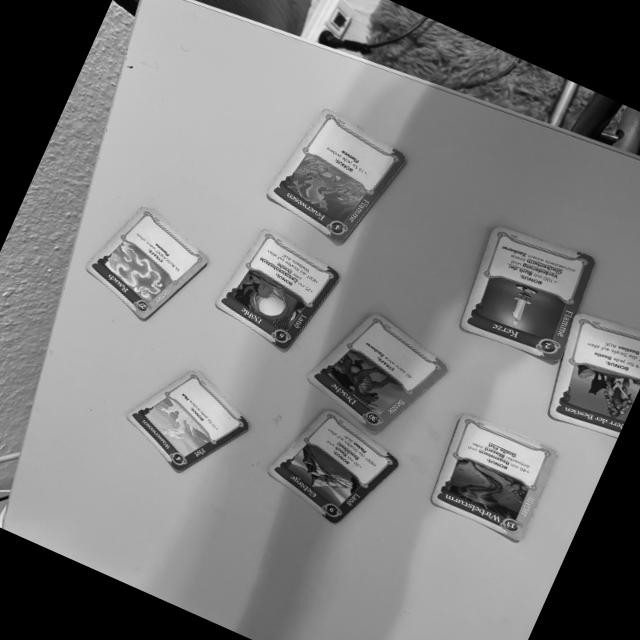Beast Master: (549, 311, 640, 440)
Candle: (455, 219, 600, 362)
Dragon: (304, 313, 453, 439)
Fire Elemental: (261, 102, 414, 247)
Mountain: (261, 405, 403, 528)
Smoke: (81, 206, 211, 324)
Underground Caverns: (211, 224, 344, 357)
Water Elemental: (122, 368, 255, 475)
Whirlwind: (428, 411, 560, 546)
